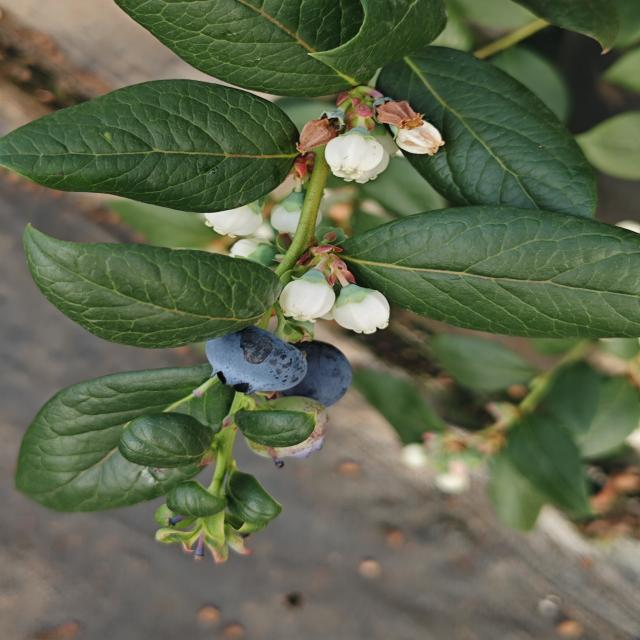ripe: (205, 326, 312, 398), (294, 339, 359, 404)
